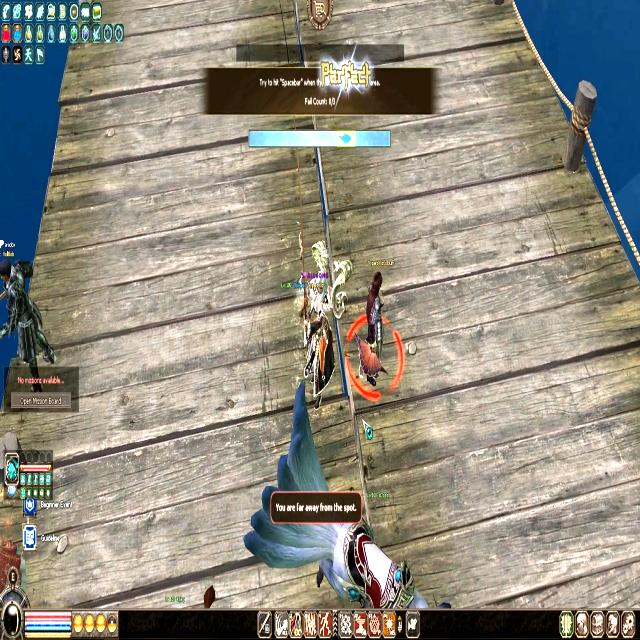fishes: (338, 132, 353, 146)
